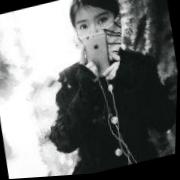WRONG: (74, 6, 122, 59)
